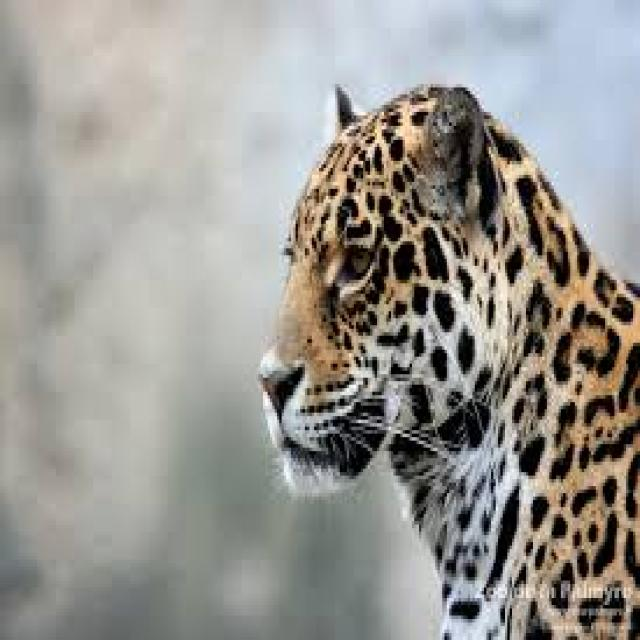Jaguar: (256, 80, 640, 640)
